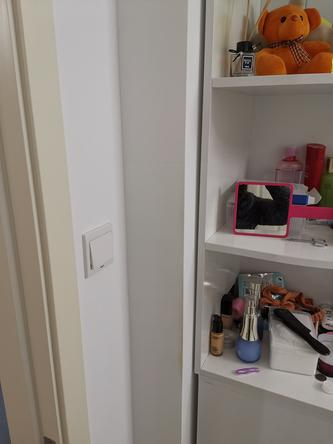switch: (91, 242, 121, 264)
